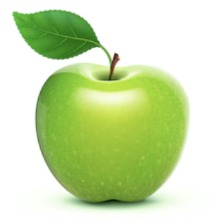apple: (24, 4, 160, 196)
